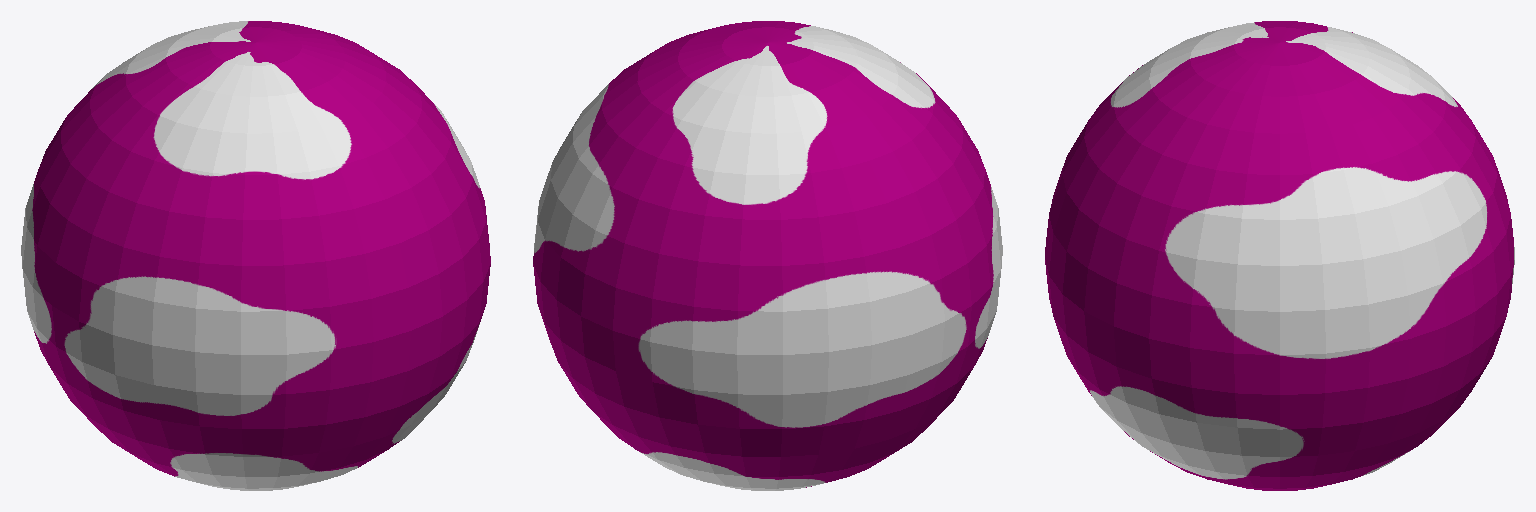
3 renders of one model, left to right at view 1: azimuth 30°, elevation 25°; view 2: azimuth 150°, elevation 25°; view 3: azimuth 270°, elevation 25°, orthographic.
Visible parts, largest first — view 1: Sphere; view 2: Sphere; view 3: Sphere.
Part boxes in pixels (x1,y1,x2,y2): Sphere: (21,21,490,490); Sphere: (533,21,1002,490); Sphere: (1045,21,1514,490).
Size of the model in its own units: 12.72 by 12.72 by 12.72.
Materials: 1 (1 with a texture image).